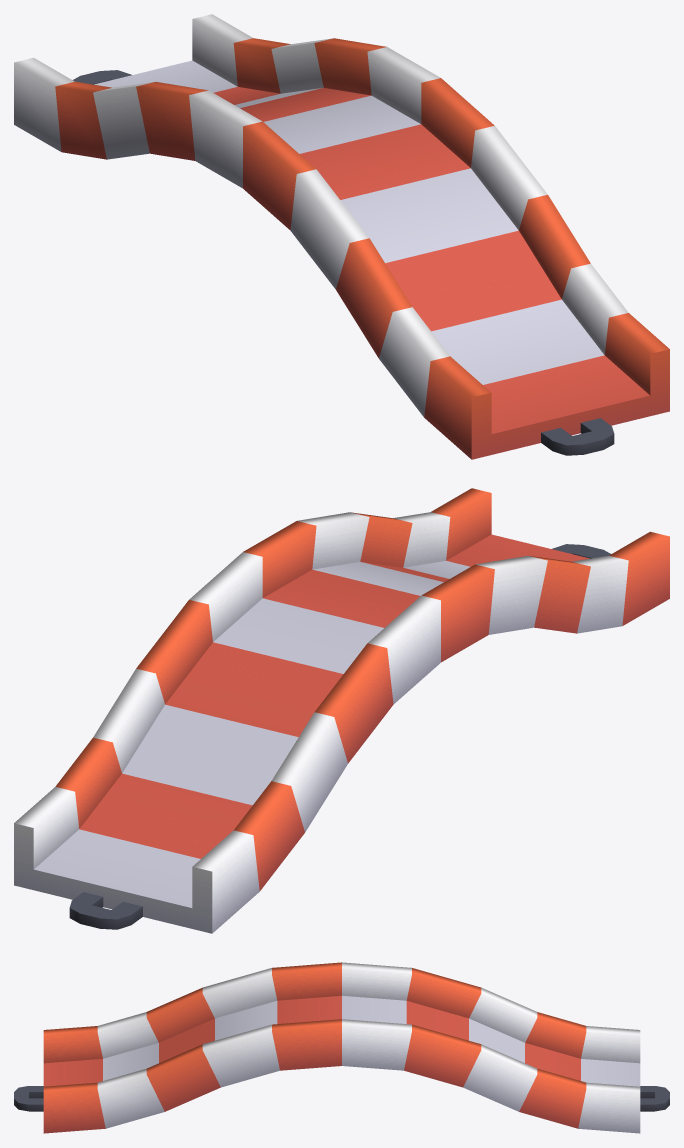
File: track-striped-narrow-straight-bump-up.glb
3 renders of one model, top to bottom at view 1: azimuth 30°, elevation 25°; view 2: azimuth 150°, elevation 25°; view 3: azimuth 270°, elevation 25°, orthographic. The views are drawn at different scales.
Visible parts, largest first — view 1: track-striped-narrow-straight-bump-up; view 2: track-striped-narrow-straight-bump-up; view 3: track-striped-narrow-straight-bump-up.
Boxes of the visible parts, box(x1,y1,x2,y2) form: track-striped-narrow-straight-bump-up: box(14, 14, 669, 459); track-striped-narrow-straight-bump-up: box(14, 488, 669, 933); track-striped-narrow-straight-bump-up: box(14, 962, 669, 1133).
Bounding box in the file's own units: 1 × 0.8 × 4.4.
Materials: 1 (1 with a texture image).
